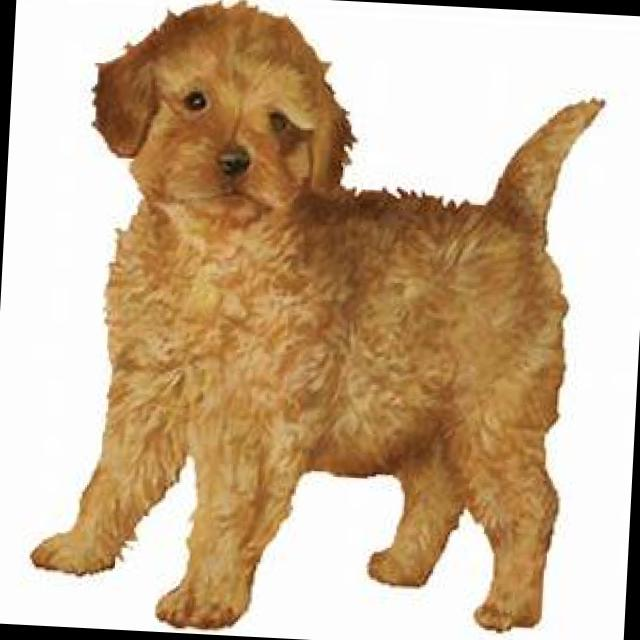dog: (24, 0, 609, 640)
